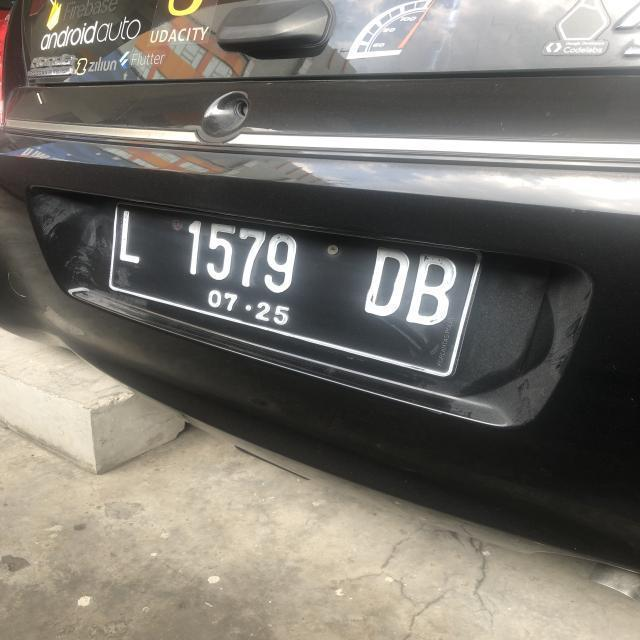1: (180, 220, 204, 273)
5: (204, 222, 238, 282)
7: (234, 227, 266, 289)
9: (264, 230, 300, 294)
B: (407, 252, 464, 326)
D: (360, 243, 414, 322)
L: (120, 208, 147, 268)
